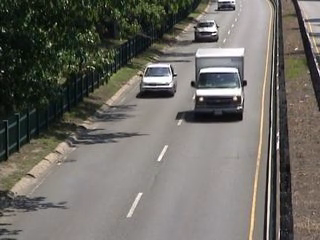car: (137, 61, 179, 99), (193, 19, 220, 44), (215, 1, 238, 12)
truck: (190, 48, 249, 124)
